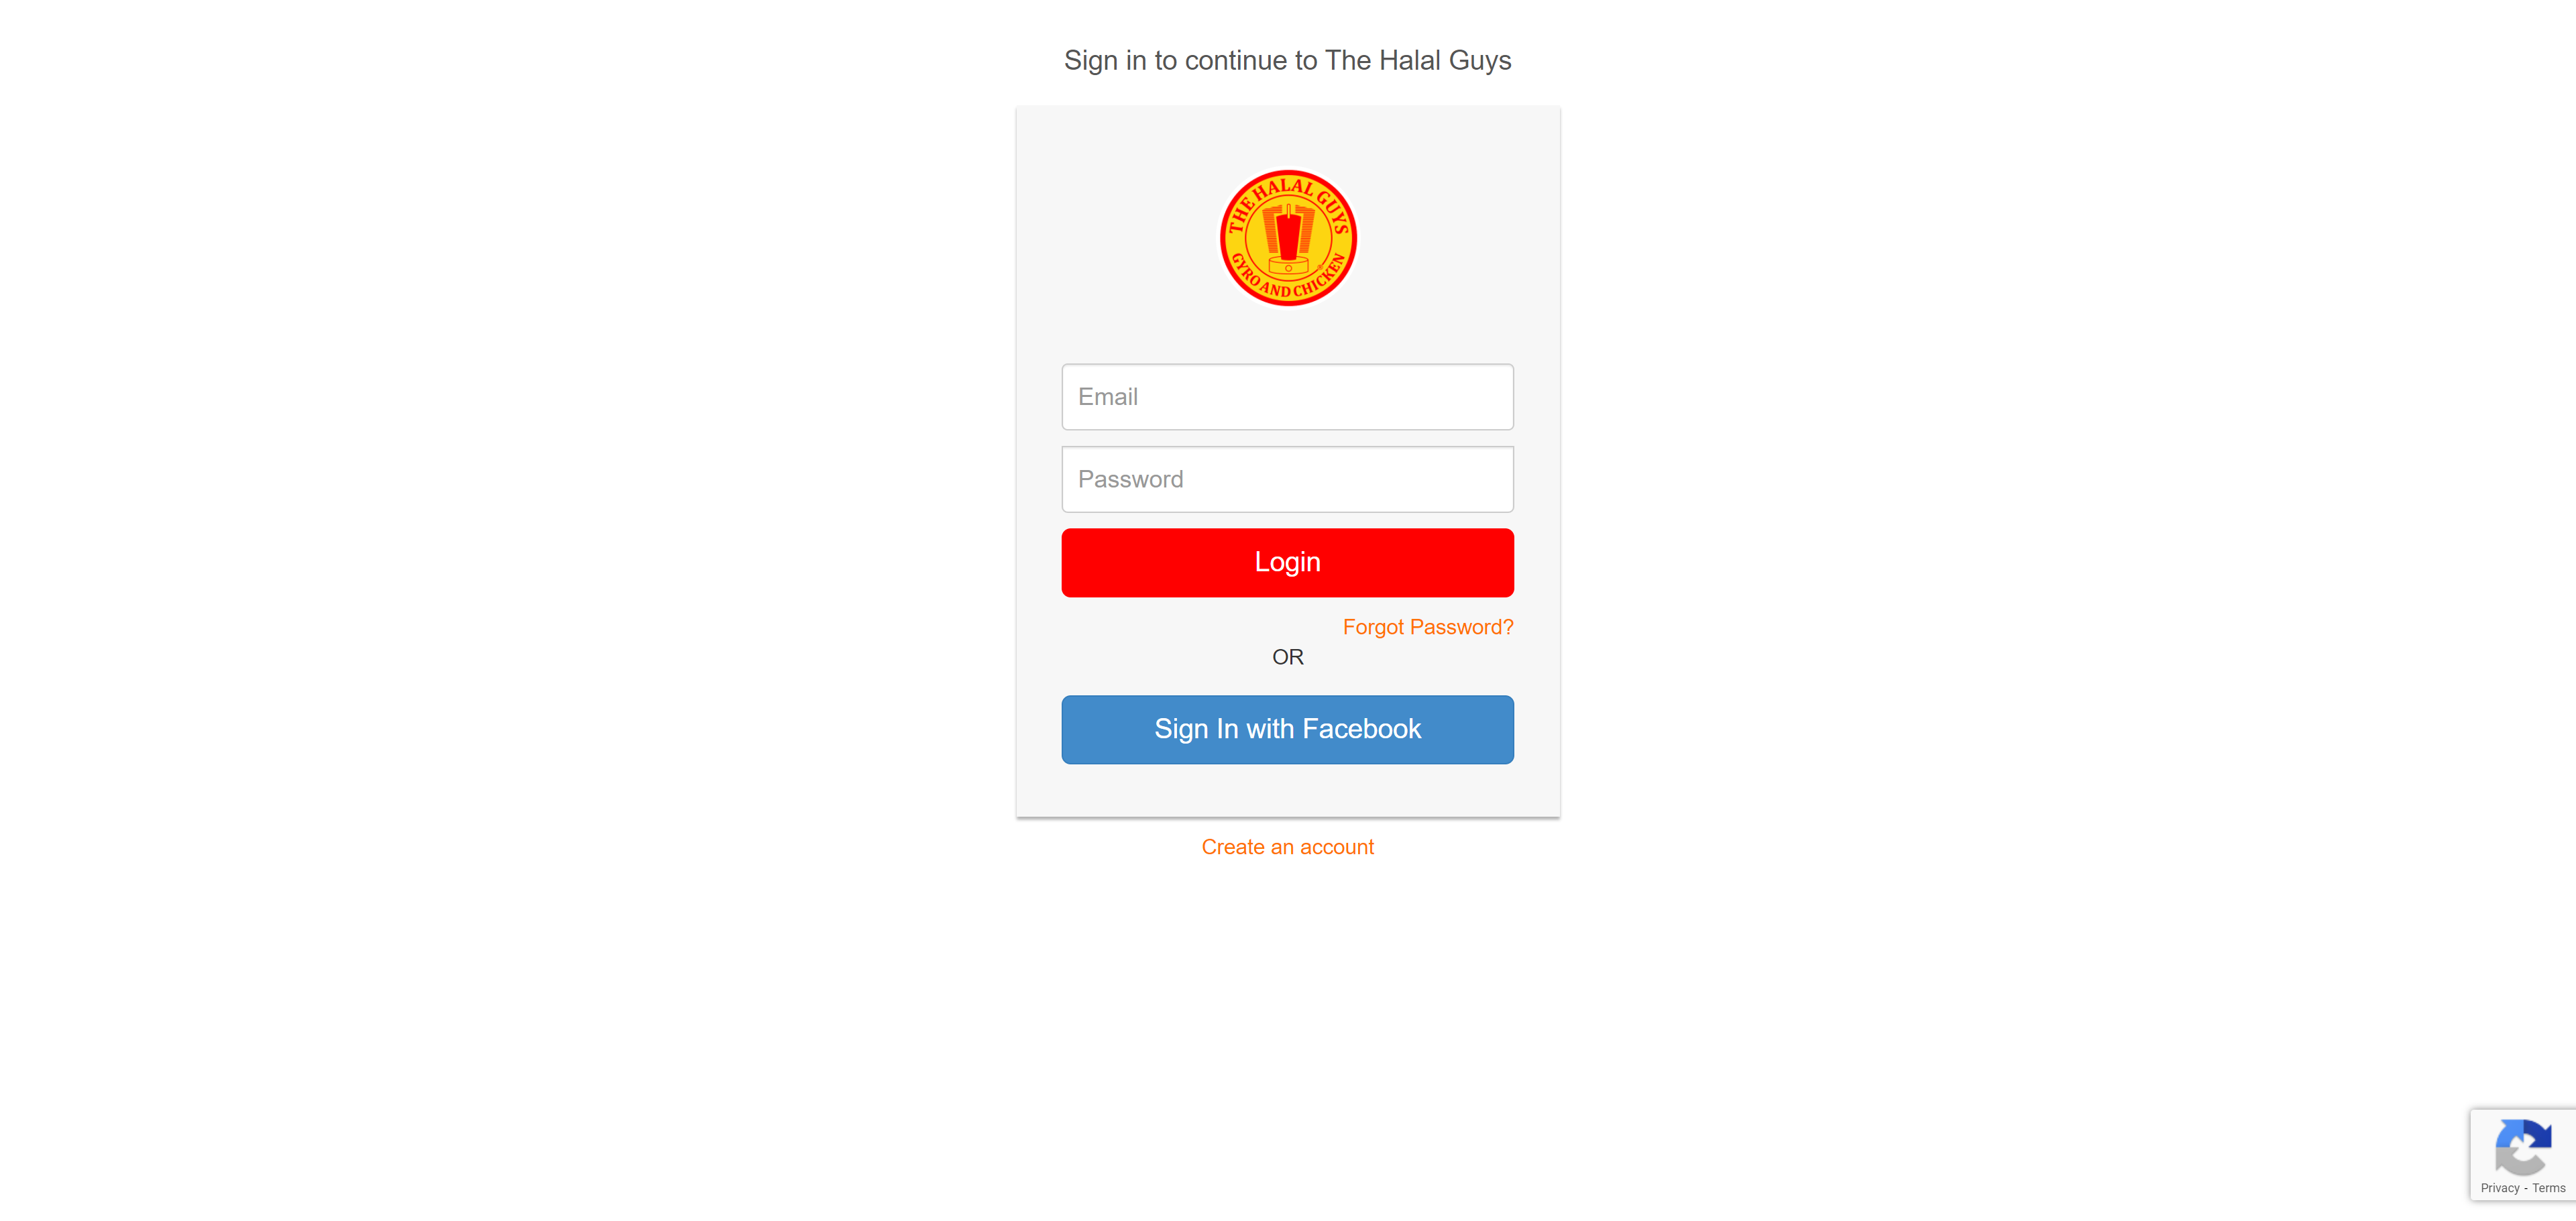login_button: (1061, 529, 1515, 598)
login_form: (1053, 357, 1523, 608)
